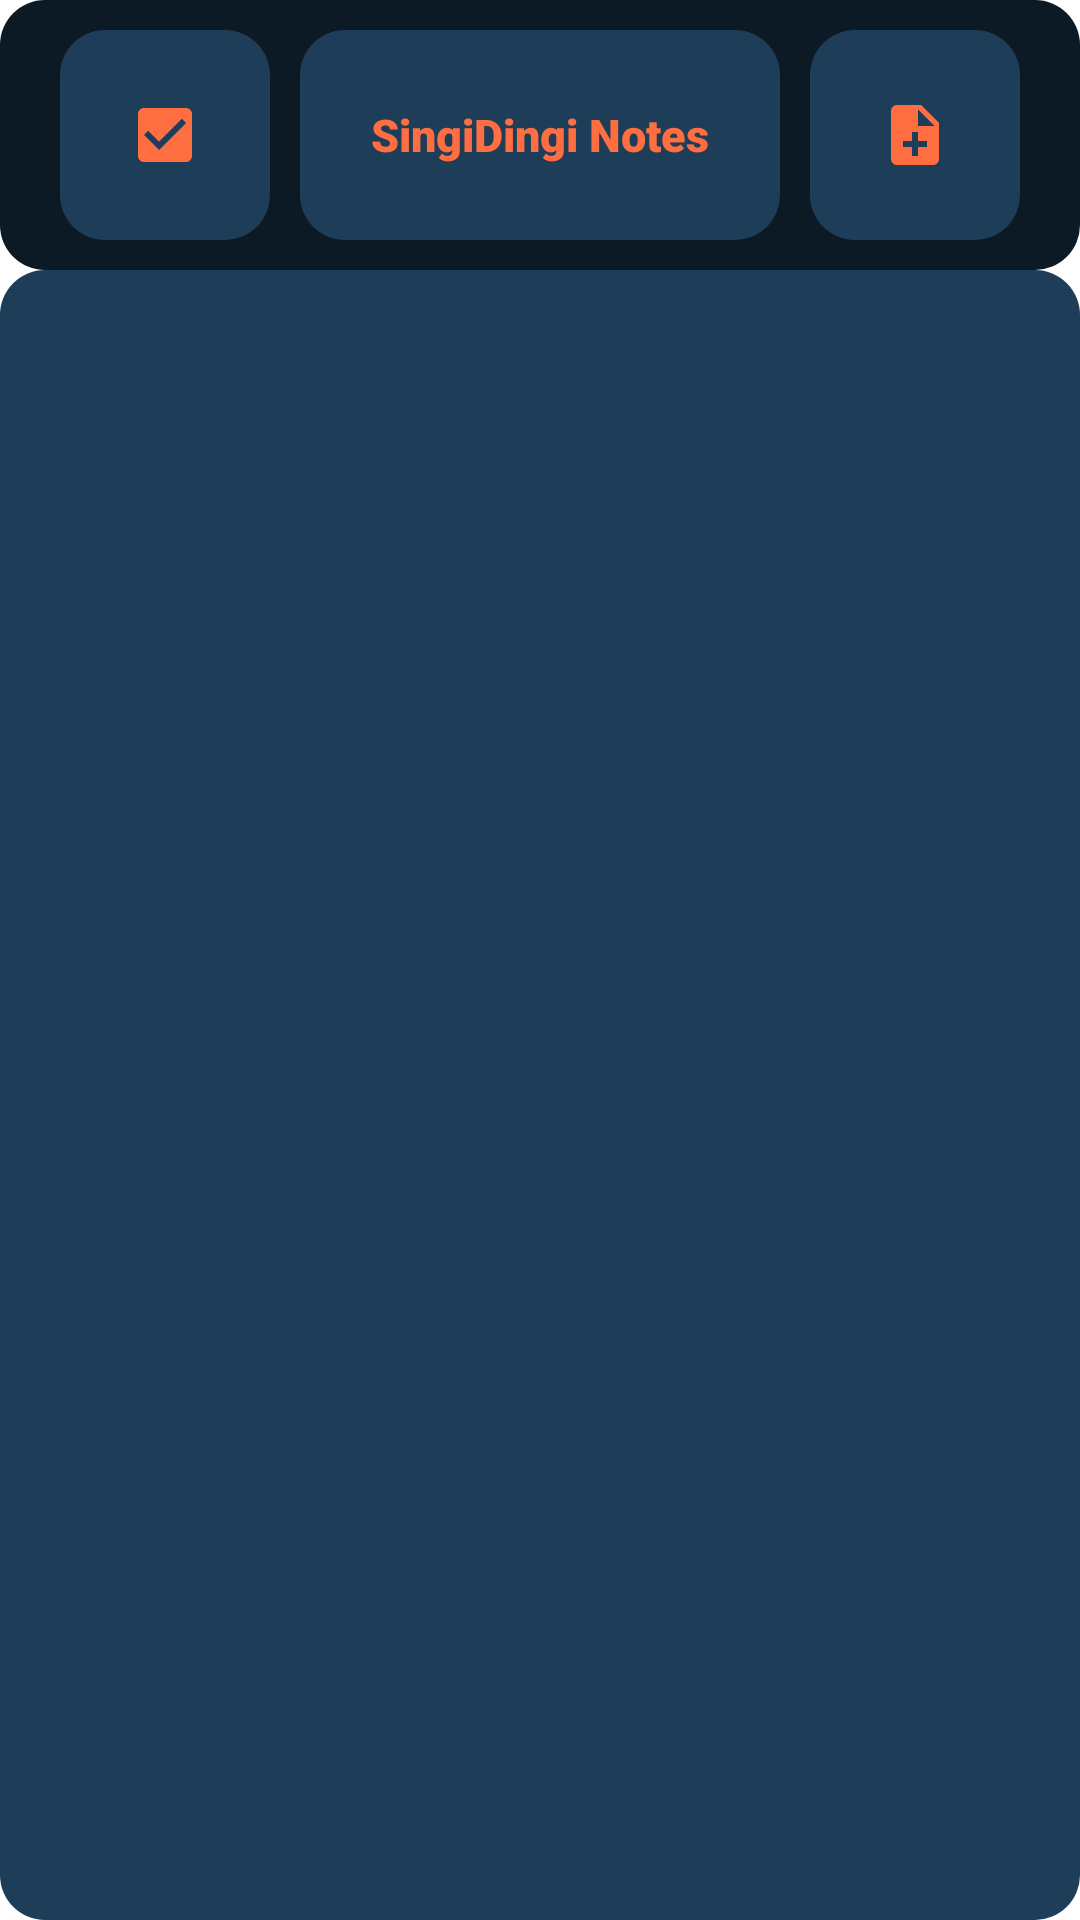

Screen size 1080px x 1920px. Icon name, then its box in pixels as {"left": x1, "top": y1, "right": x2, "bottom": y2}:
add note: {"left": 810, "top": 30, "right": 1020, "bottom": 240}
todos: {"left": 60, "top": 30, "right": 270, "bottom": 240}
